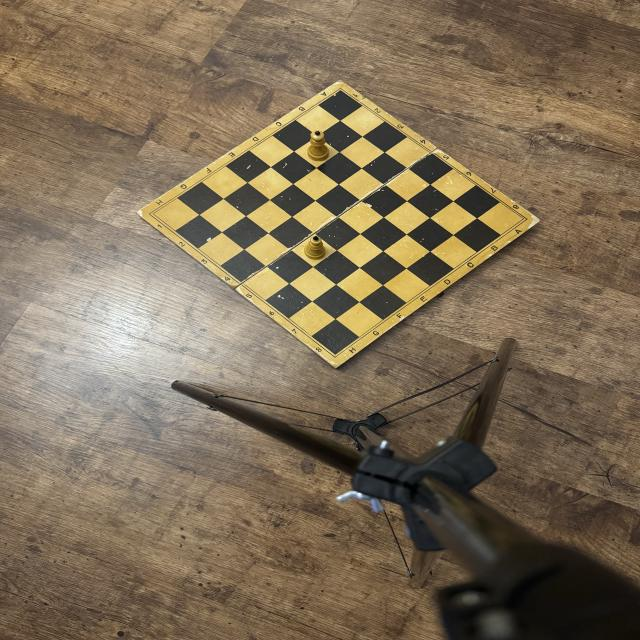white-king: (304, 235, 326, 260)
white-queen: (307, 130, 329, 161)
